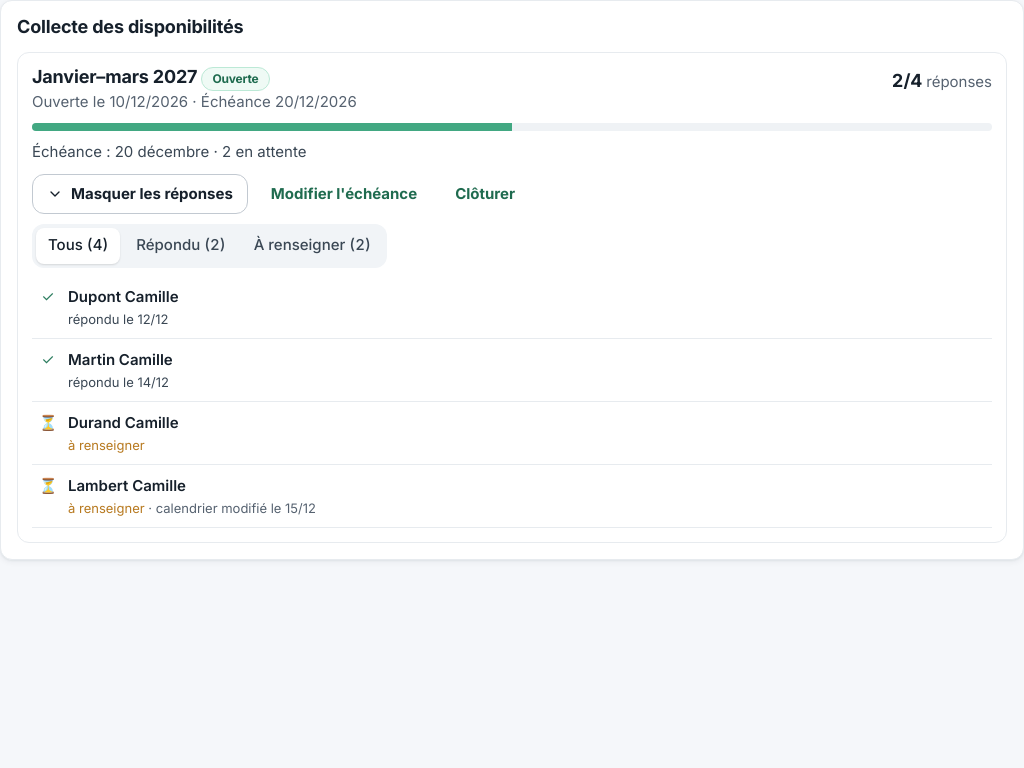
Test: AvailabilityCollectionsPanel — for someone who manages it › changes the deadline and closes a collection
Expected: the text "Dupont Camille" is shown, [68,287,179,306]
Click the button "Modifier l'échéance" at (344, 194), box [256,174,432,214]
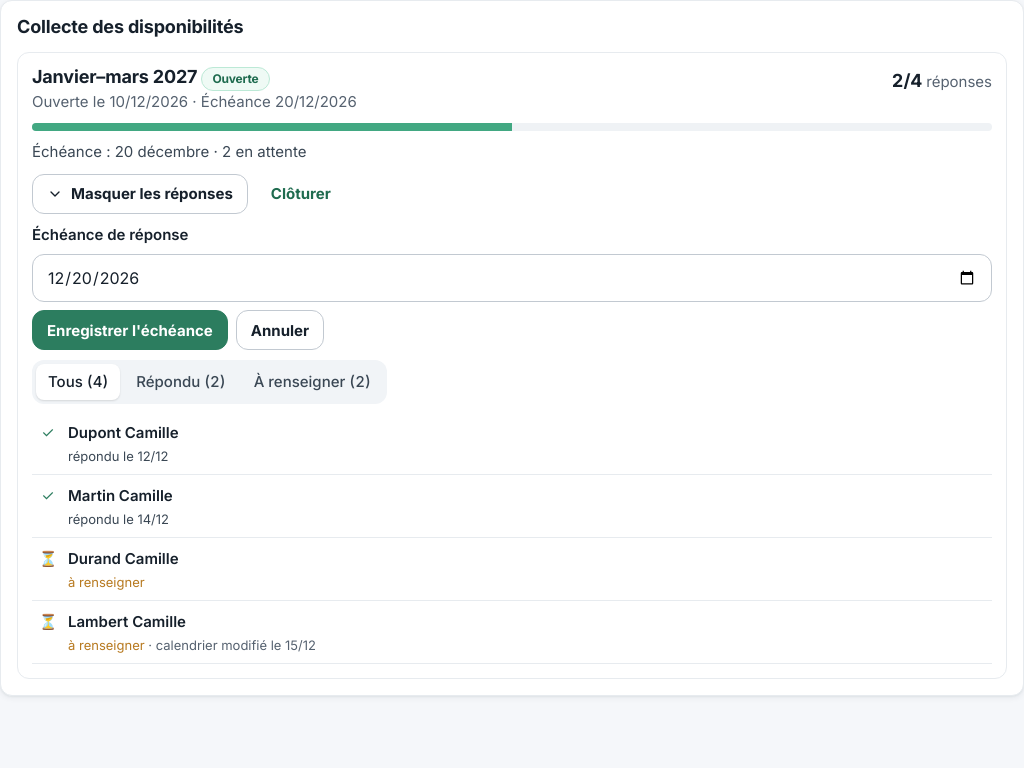
Type "2026-12-31" into the date field labelled "Échéance de réponse" at (512, 278), box [32,254,992,302]
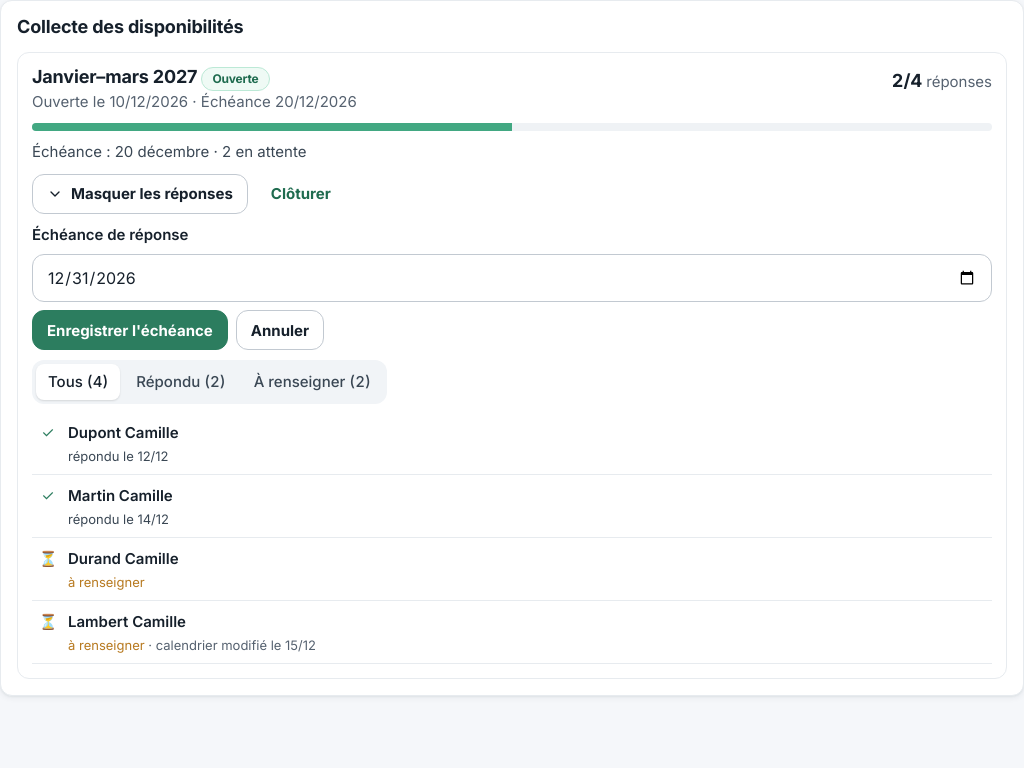
Click the button "Enregistrer l'échéance" at (130, 330), box [32,310,228,350]
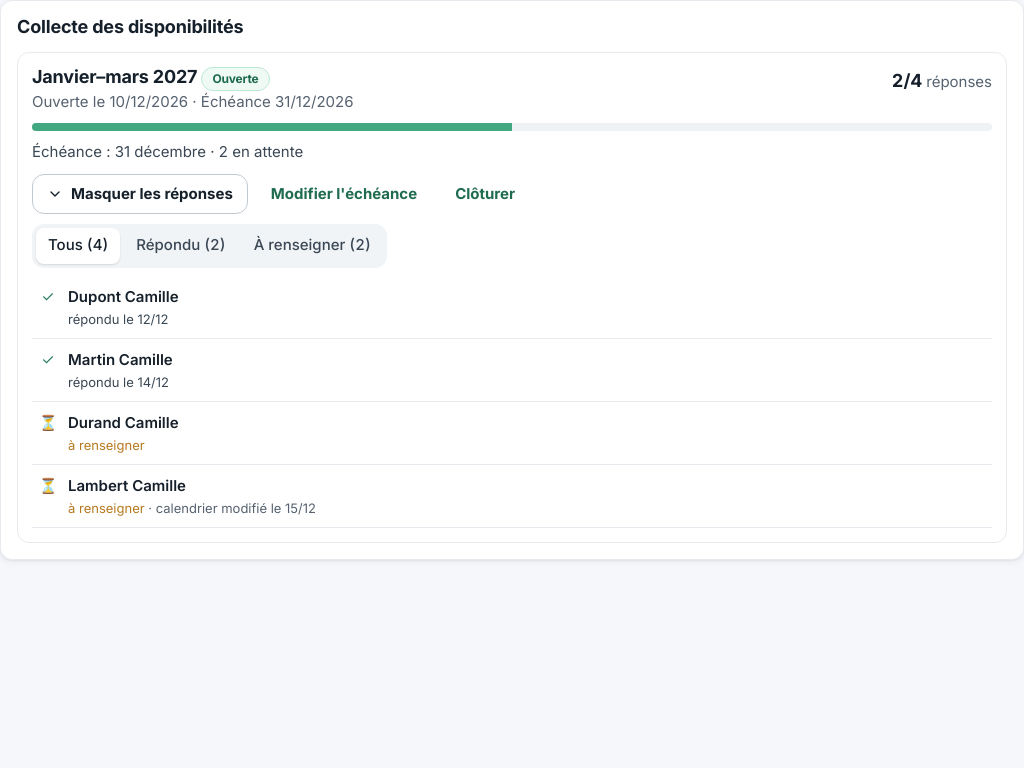
Now the text "Ouverte le 10/12/2026 · Échéance 31/12/2026" is shown, box [32,91,354,113]
Click the button "Clôturer" at (485, 194), box [440,174,530,214]
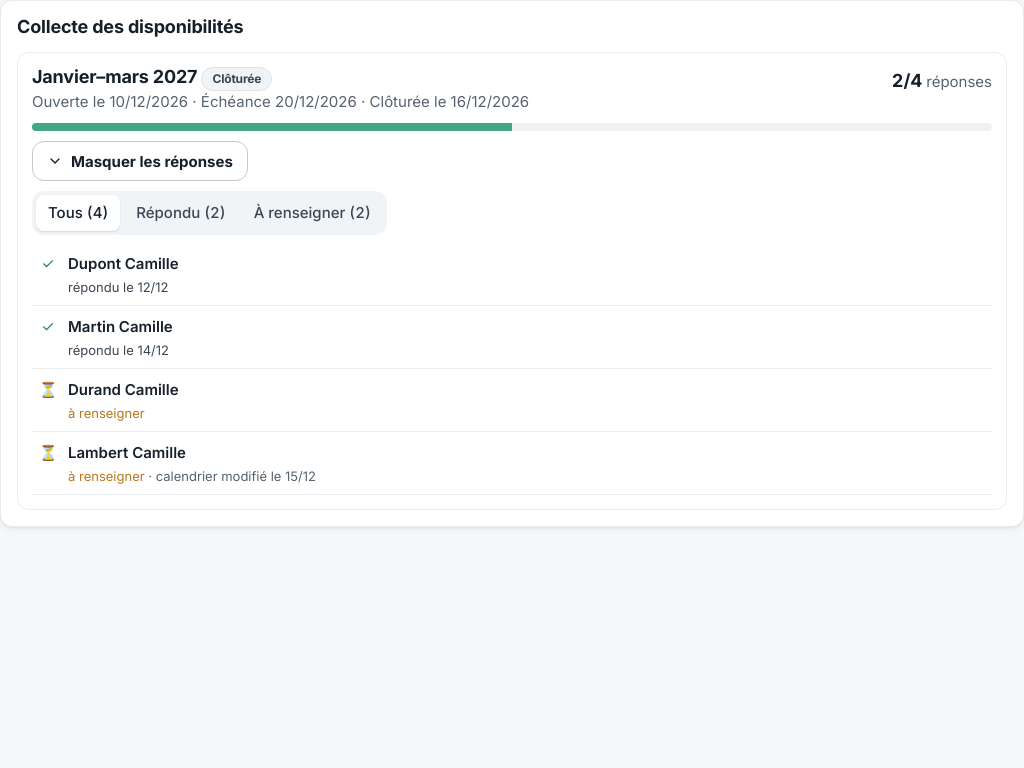
Now the text "Clôturée" is shown, box [202,67,272,91]
Now the button "Clôturer" is gone
